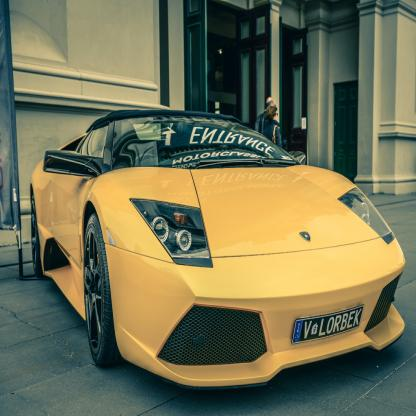Car: (31, 111, 407, 392)
